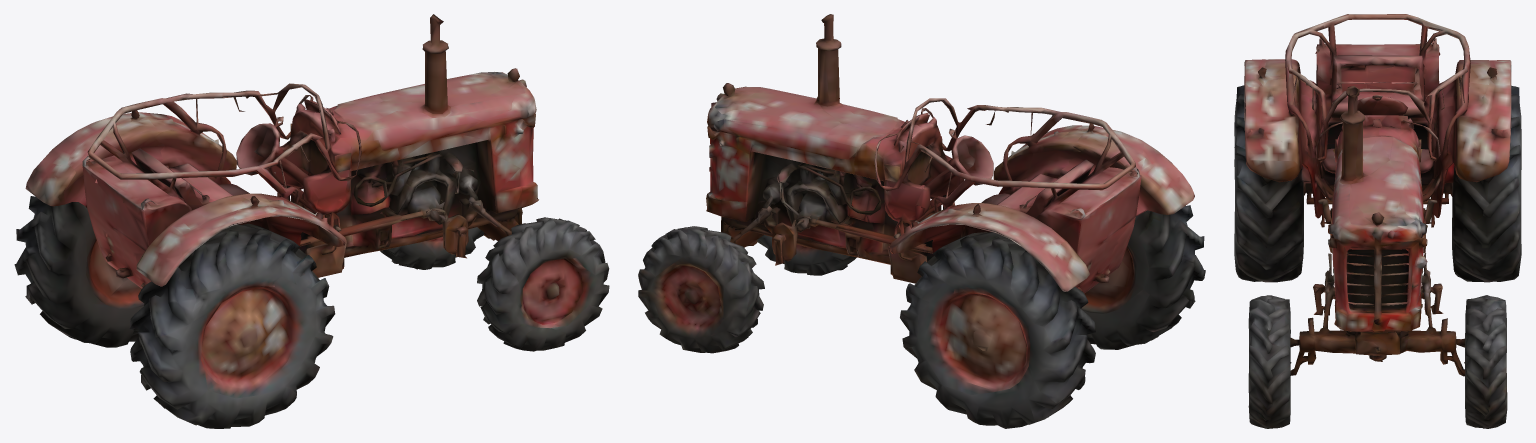
The model's file is tractor_wreck.62035e1641.glb.
The picture shows the model from 3 angles, left to right: view 1: azimuth 30°, elevation 25°; view 2: azimuth 150°, elevation 25°; view 3: azimuth 270°, elevation 25°; orthographic projection. The views are drawn at different scales.
Visible parts, largest first — view 1: tractor_wreck; view 2: tractor_wreck; view 3: tractor_wreck.
Part boxes in pixels (<box>): tractor_wreck: <box>14,14,609,428</box>; tractor_wreck: <box>638,14,1205,428</box>; tractor_wreck: <box>1234,14,1521,428</box>.
Size of the model in its own units: 4.2 by 2.72 by 2.33.
1 material, 1 textured.
